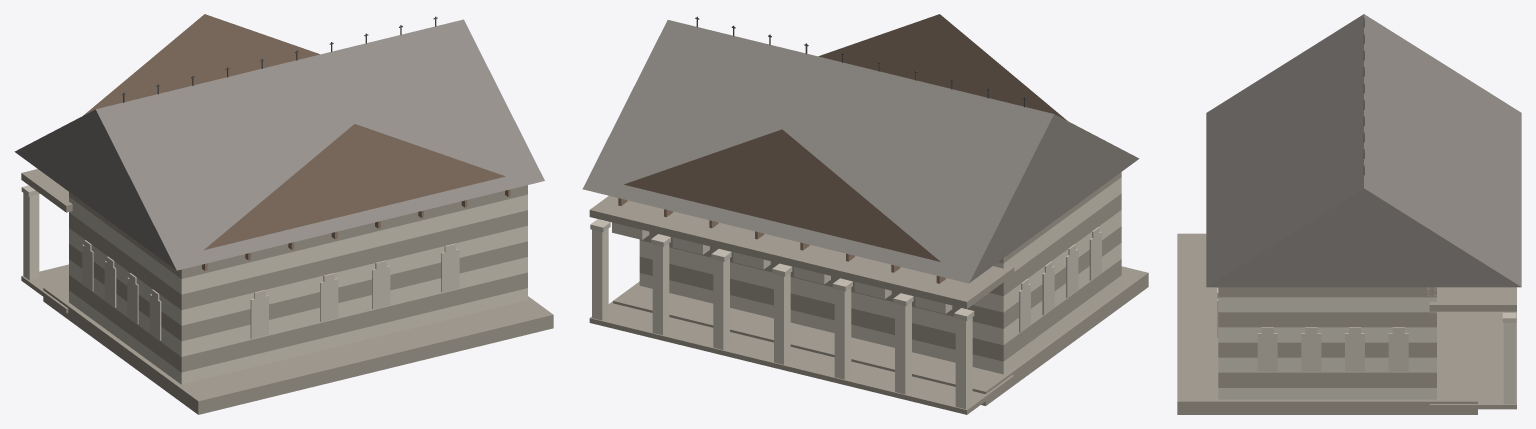
The model's file is cp_dairy.glb.
The picture shows the model from 3 angles, left to right: view 1: azimuth 30°, elevation 25°; view 2: azimuth 150°, elevation 25°; view 3: azimuth 270°, elevation 25°; orthographic projection. The views are drawn at different scales.
Parts seen in each view (by area): view 1: TheDairy; view 2: TheDairy; view 3: TheDairy.
Part boxes in pixels (x1,y1,x2,y2): TheDairy: (14,14,553,414); TheDairy: (582,14,1148,414); TheDairy: (1177,14,1521,414).
Size of the model in its own units: 17 by 10.87 by 14.2.
